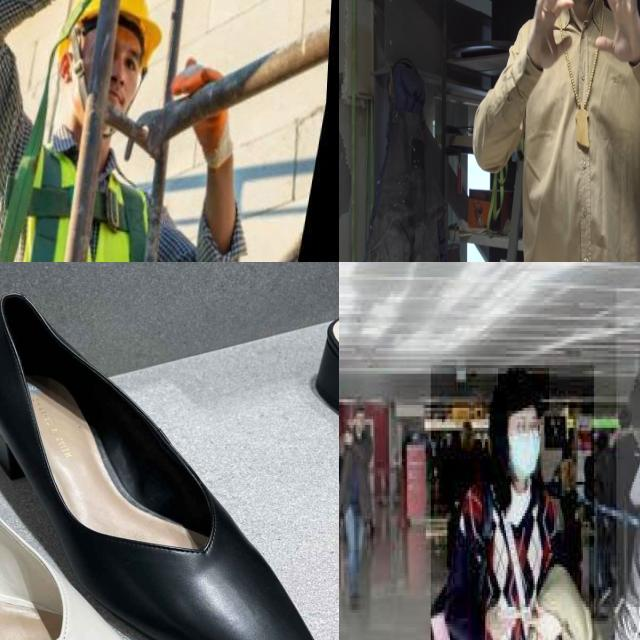Harness: (0, 62, 76, 262)
Sandals: (0, 279, 339, 640), (0, 333, 215, 640)
face_mask: (508, 411, 540, 479)
face_nomask: (356, 413, 365, 428)
hand_noglove: (525, 598, 563, 640), (485, 598, 518, 640)
head_nohelmet: (498, 368, 551, 414)
person: (430, 365, 595, 640)
